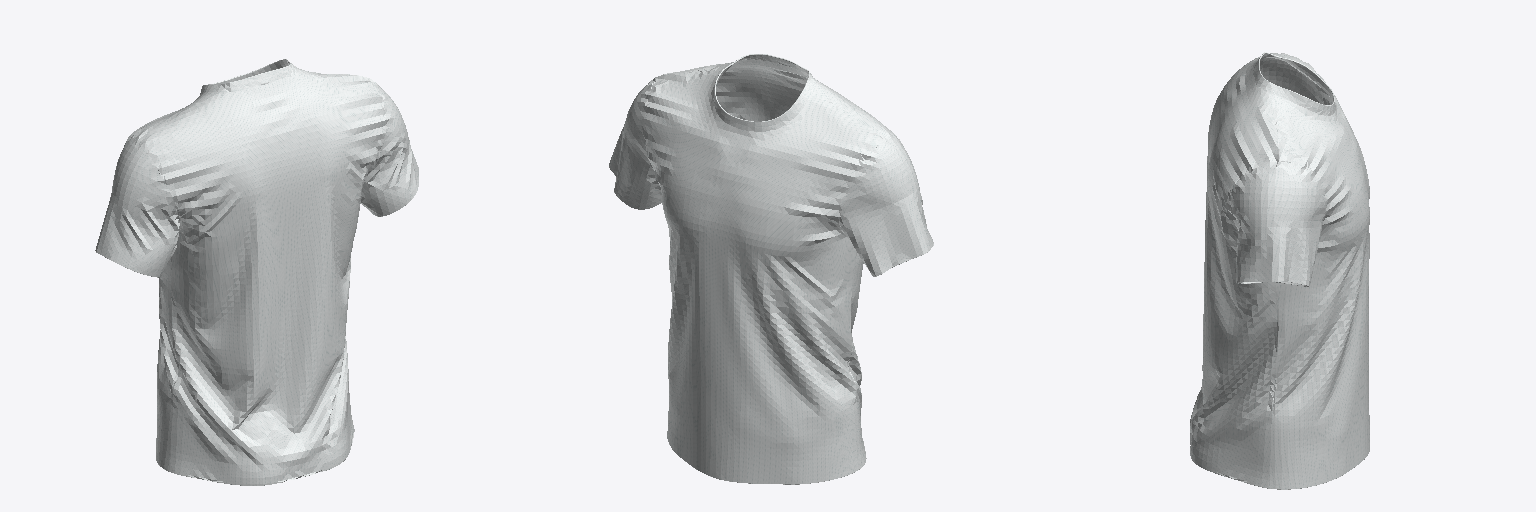
The picture shows the model from 3 angles: view 1: azimuth 30°, elevation 25°; view 2: azimuth 150°, elevation 25°; view 3: azimuth 270°, elevation 25°; orthographic projection.
Visible parts, largest first — view 1: bwSec_25, bwSec_36, bwSec_32, bwSec_11, bwSec_1; view 2: bwSec_11, bwSec_36, bwSec_20, bwSec_32, bwSec_25, bwSec_1; view 3: bwSec_11, bwSec_25, bwSec_32, bwSec_34, bwSec_1.
Boxes of the visible parts, x1,y1,x2,y2 form: bwSec_25: [139, 68, 386, 485]; bwSec_36: [95, 136, 179, 276]; bwSec_32: [361, 78, 418, 216]; bwSec_11: [130, 73, 320, 470]; bwSec_1: [200, 63, 298, 94]; bwSec_11: [645, 67, 884, 484]; bwSec_36: [839, 138, 933, 276]; bwSec_20: [716, 60, 808, 121]; bwSec_32: [609, 77, 661, 209]; bwSec_25: [661, 62, 900, 464]; bwSec_1: [713, 60, 816, 131]; bwSec_11: [1269, 53, 1369, 489]; bwSec_25: [1190, 53, 1278, 488]; bwSec_32: [1231, 160, 1325, 285]; bwSec_34: [1260, 58, 1323, 104]; bwSec_1: [1254, 58, 1335, 115].
Size of the model in its own units: 5.53 by 6.32 by 2.71.
3 materials, 3 textured.